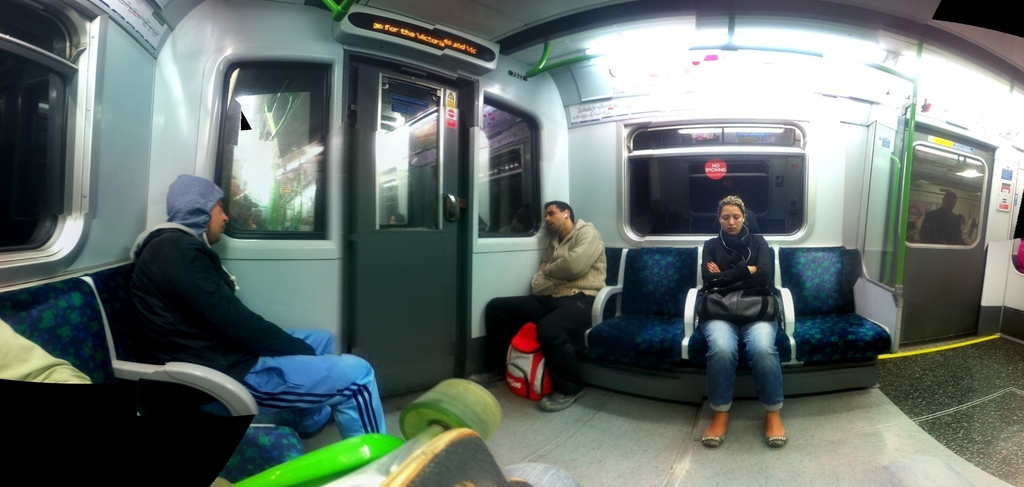Footwear: (541, 389, 584, 414), (702, 429, 730, 447), (762, 431, 788, 448)
